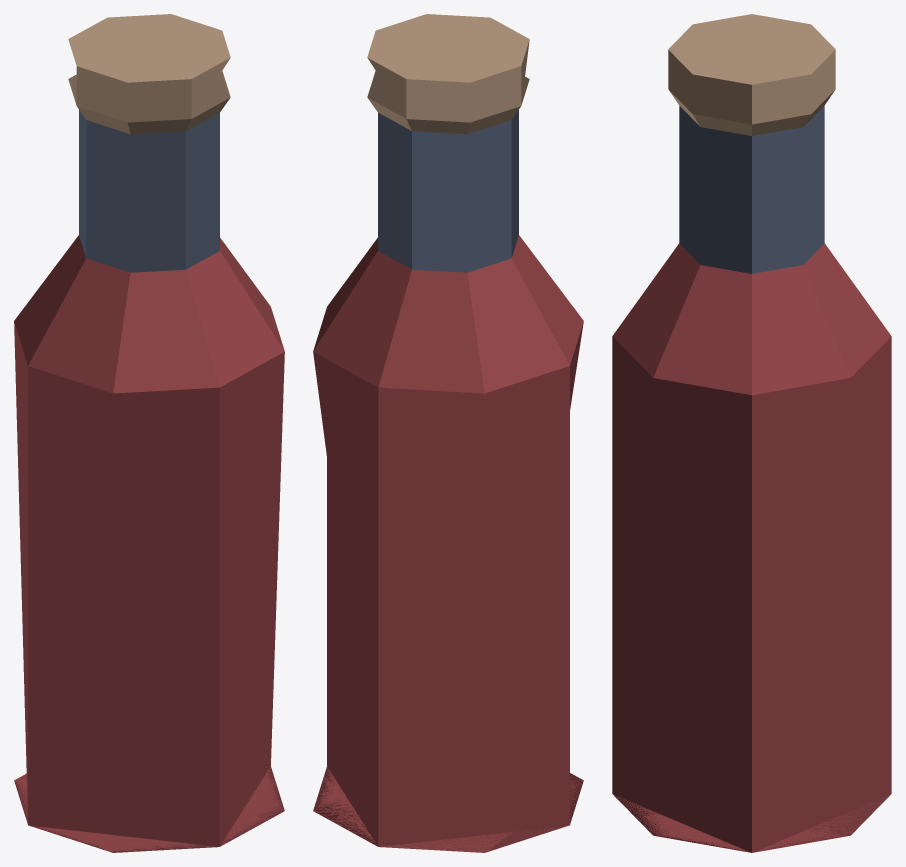
File: wain.fbx
3 renders of one model, left to right at view 1: azimuth 30°, elevation 25°; view 2: azimuth 150°, elevation 25°; view 3: azimuth 270°, elevation 25°, orthographic.
Parts seen in each view (by area): view 1: Cylinder, Cylinder.002, Cylinder.001; view 2: Cylinder, Cylinder.002, Cylinder.001; view 3: Cylinder, Cylinder.002, Cylinder.001.
Part boxes in pixels (x1=…): Cylinder: x1=14, y1=235, x2=284, y2=852; Cylinder.002: x1=79, y1=110, x2=219, y2=272; Cylinder.001: x1=68, y1=14, x2=230, y2=134; Cylinder: x1=313, y1=235, x2=583, y2=852; Cylinder.002: x1=378, y1=110, x2=518, y2=272; Cylinder.001: x1=367, y1=14, x2=529, y2=134; Cylinder: x1=612, y1=243, x2=891, y2=852; Cylinder.002: x1=679, y1=106, x2=824, y2=273; Cylinder.001: x1=668, y1=14, x2=835, y2=135.
Bounding box in the file's own units: 32.23 × 94.82 × 32.23.
